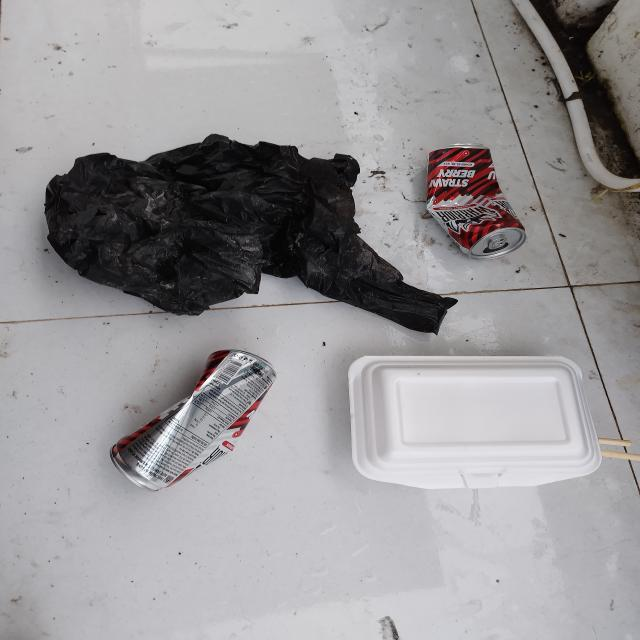bag: (43, 132, 462, 335)
can: (109, 350, 279, 494), (421, 142, 529, 257)
foam box: (344, 355, 606, 490)
